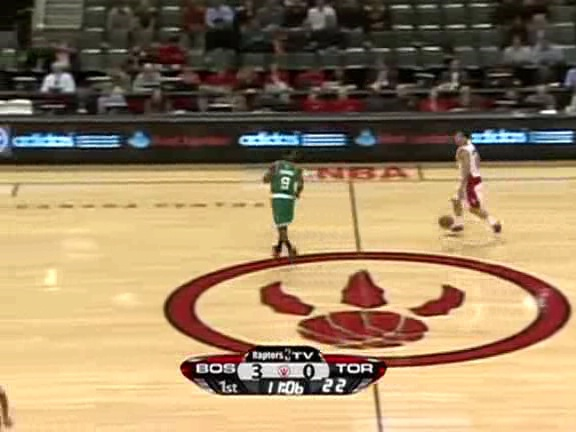person: (267, 153, 301, 234), (266, 153, 300, 234), (268, 153, 302, 234), (267, 152, 301, 233), (267, 154, 301, 235)
target_negative: (16, 135, 348, 247), (445, 4, 574, 205), (112, 294, 479, 336), (417, 350, 554, 406), (293, 394, 528, 417)
